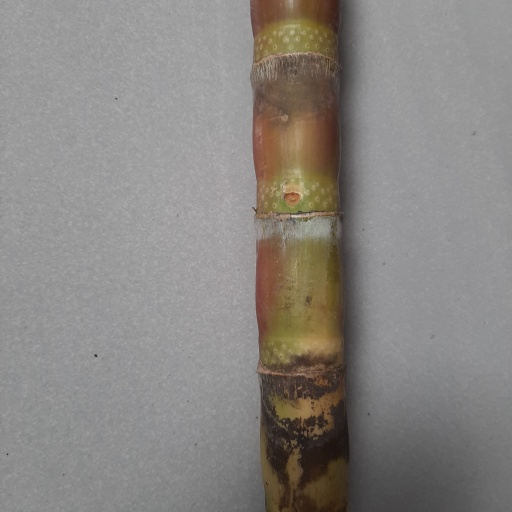Damage_Bud: (283, 192, 303, 211)
